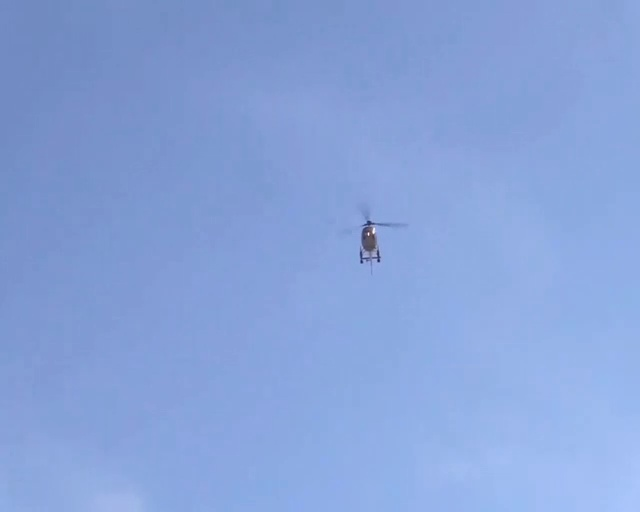HELICOPTER: (338, 203, 409, 265)
